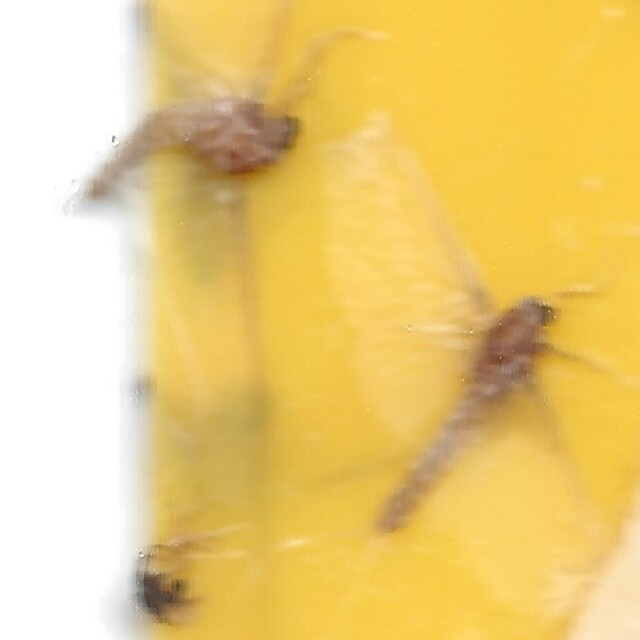Ephemeroptera: (378, 293, 565, 538), (75, 102, 302, 218)
